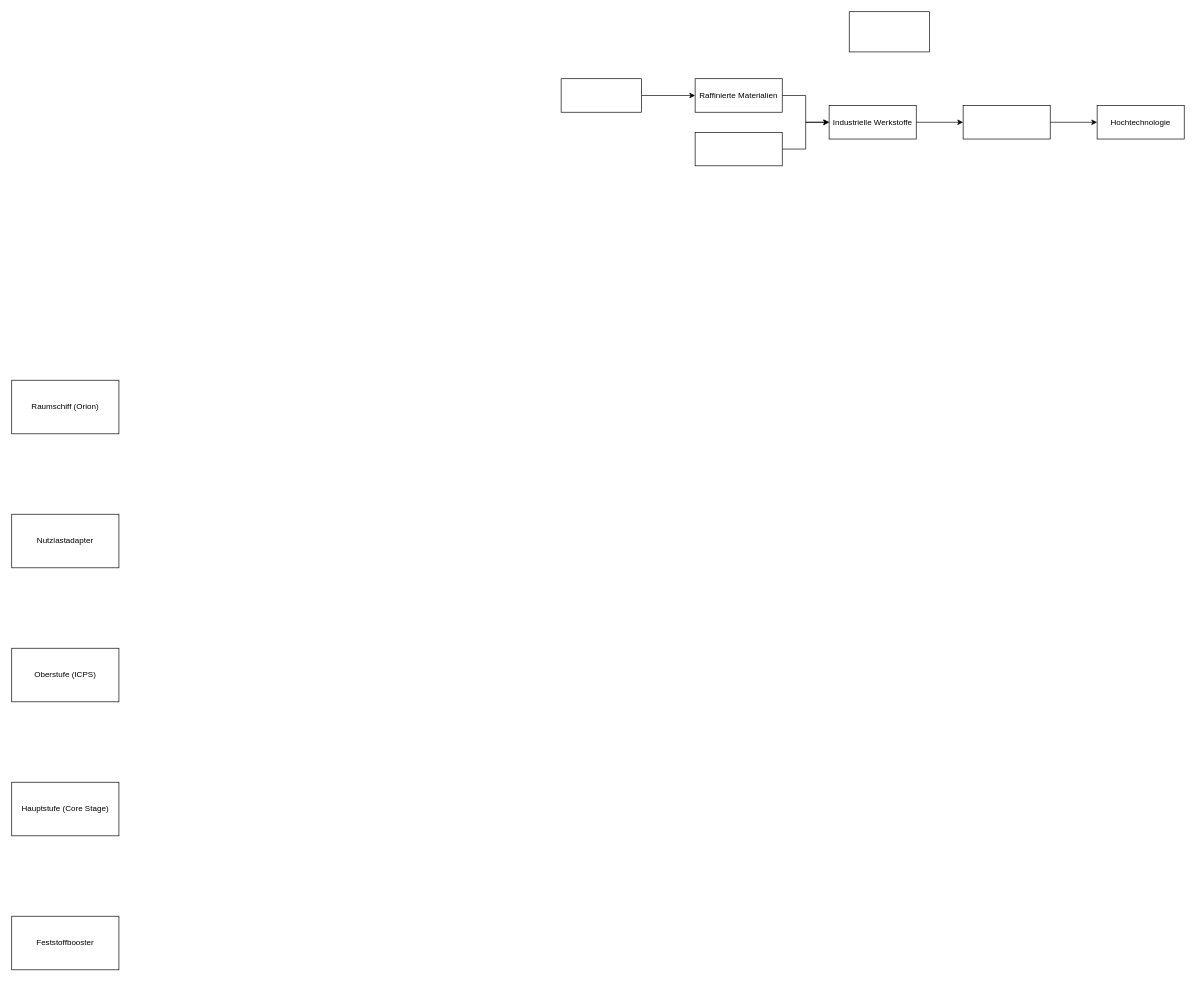
Some shapes in this 1196 by 982 pixel diagram are drawn without their labels. Here are the shapes that lost their labels. From the top down, the centre of each, then its label:
At point 889,31: "Materialen Kette".
At point 601,95: "Rohstoffe".
At point 1006,122: "Elektronik".
At point 738,149: "Chemie/Treibstoffe".
